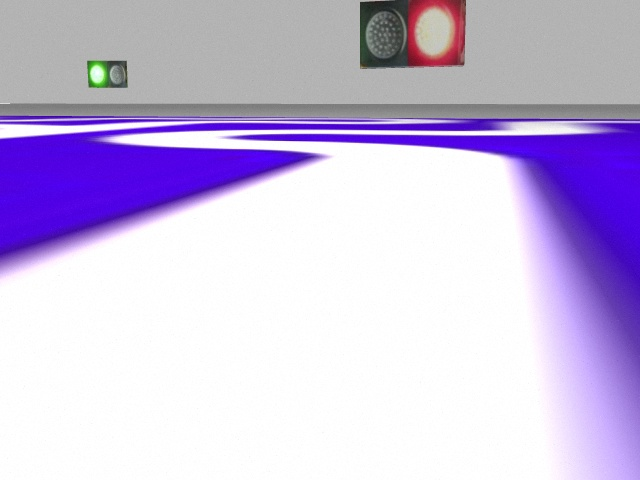red: (407, 1, 464, 66)
